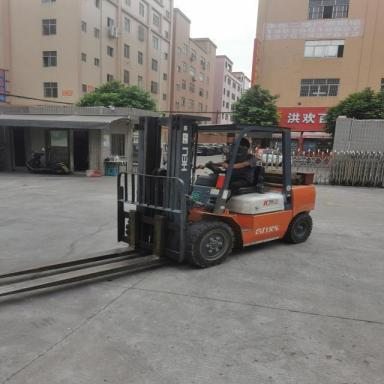forklift: (0, 111, 317, 303)
